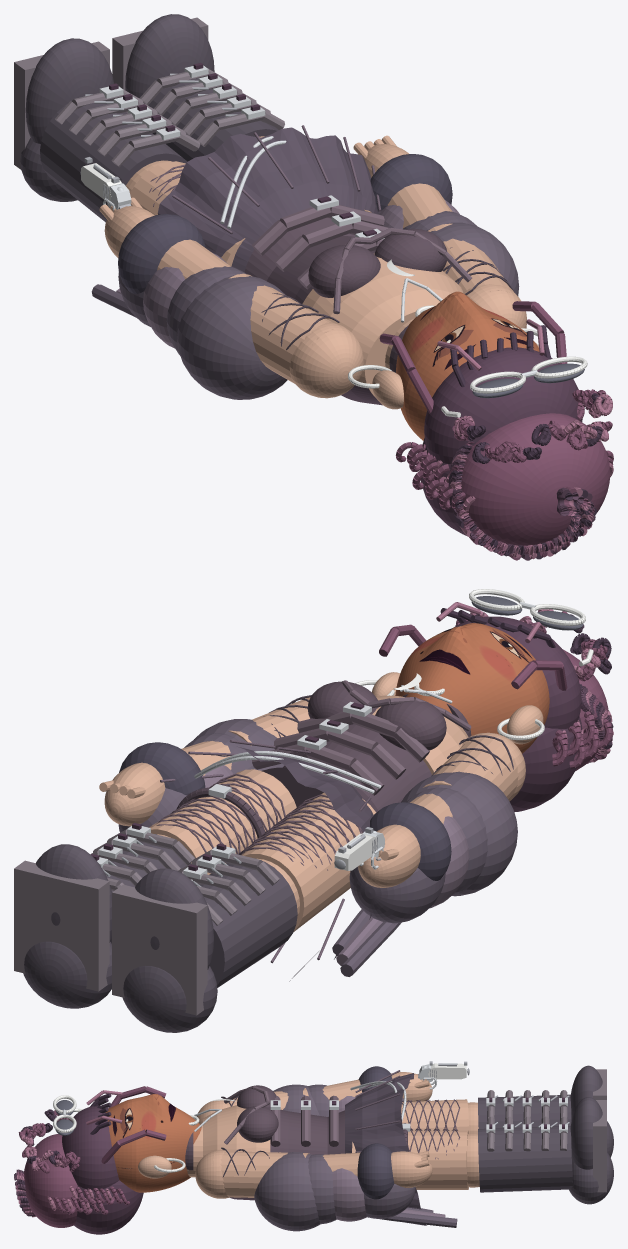
Rendered from sophia_v3_3_with_chrome_84fs_unrigged.glb.
3 views of the same model, one above another, from view 1: azimuth 30°, elevation 25°; view 2: azimuth 150°, elevation 25°; view 3: azimuth 270°, elevation 25° (orthographic). The views are drawn at different scales.
Visible parts, largest first — view 1: anatomy_skin, boot_boot, hair_hair_mid, skirt_skirt, coat_coat, boot_boot_light, hair_hair, costume_corset, face_skin, coat_coat_inner, costume_corset_panel, hair_hair_dark (+9 smaller); view 2: anatomy_skin, boot_boot_light, boot_boot, coat_coat, face_skin, costume_corset, hair_hair, costume_corset_panel, coat_coat_inner, hosiery_fishnet, hair_hair_mid, skirt_skirt (+13 smaller); view 3: anatomy_skin, boot_boot, coat_coat, hair_hair_mid, face_skin, hair_hair, costume_corset, skirt_skirt, boot_boot_light, coat_coat_inner, coat_coat_fold, costume_corset_panel (+13 smaller).
Boxes of the visible parts, left/top/right/bottom form: anatomy_skin: left=99, top=135, right=538, bottom=409; boot_boot: left=20, top=14, right=278, bottom=222; hair_hair_mid: left=379, top=301, right=613, bottom=560; skirt_skirt: left=157, top=127, right=378, bottom=272; coat_coat: left=91, top=211, right=519, bottom=399; boot_boot_light: left=14, top=17, right=284, bottom=169; hair_hair: left=420, top=347, right=595, bottom=560; costume_corset: left=244, top=217, right=446, bottom=303; face_skin: left=396, top=291, right=539, bottom=440; coat_coat_inner: left=118, top=154, right=452, bottom=293; costume_corset_panel: left=252, top=205, right=471, bottom=314; hair_hair_dark: left=448, top=325, right=604, bottom=559; anatomy_skin: left=99, top=672, right=543, bottom=931; boot_boot_light: left=14, top=829, right=279, bottom=1015; boot_boot: left=23, top=834, right=297, bottom=1032; coat_coat: left=118, top=719, right=517, bottom=976; face_skin: left=395, top=623, right=549, bottom=753; costume_corset: left=261, top=681, right=446, bottom=812; hair_hair: left=452, top=616, right=612, bottom=811; costume_corset_panel: left=252, top=680, right=471, bottom=795; coat_coat_inner: left=119, top=742, right=451, bottom=880; hosiery_fishnet: left=149, top=773, right=363, bottom=870; hair_hair_mid: left=379, top=611, right=612, bottom=770; skirt_skirt: left=209, top=746, right=373, bottom=981; anatomy_skin: left=138, top=1072, right=479, bottom=1198; boot_boot: left=478, top=1065, right=613, bottom=1204; coat_coat: left=254, top=1084, right=457, bottom=1231; hair_hair_mid: left=15, top=1086, right=166, bottom=1227; face_skin: left=105, top=1094, right=201, bottom=1192; hair_hair: left=14, top=1106, right=143, bottom=1234; costume_corset: left=237, top=1085, right=344, bottom=1154; skirt_skirt: left=345, top=1073, right=426, bottom=1225; boot_boot_light: left=487, top=1069, right=606, bottom=1192; coat_coat_inner: left=357, top=1066, right=394, bottom=1199; coat_coat_fold: left=332, top=1096, right=445, bottom=1221; costume_corset_panel: left=224, top=1086, right=338, bottom=1146.
Bounding box in the file's own units: 0.6946 × 0.4742 × 1.72.
23 materials, 1 textured.
